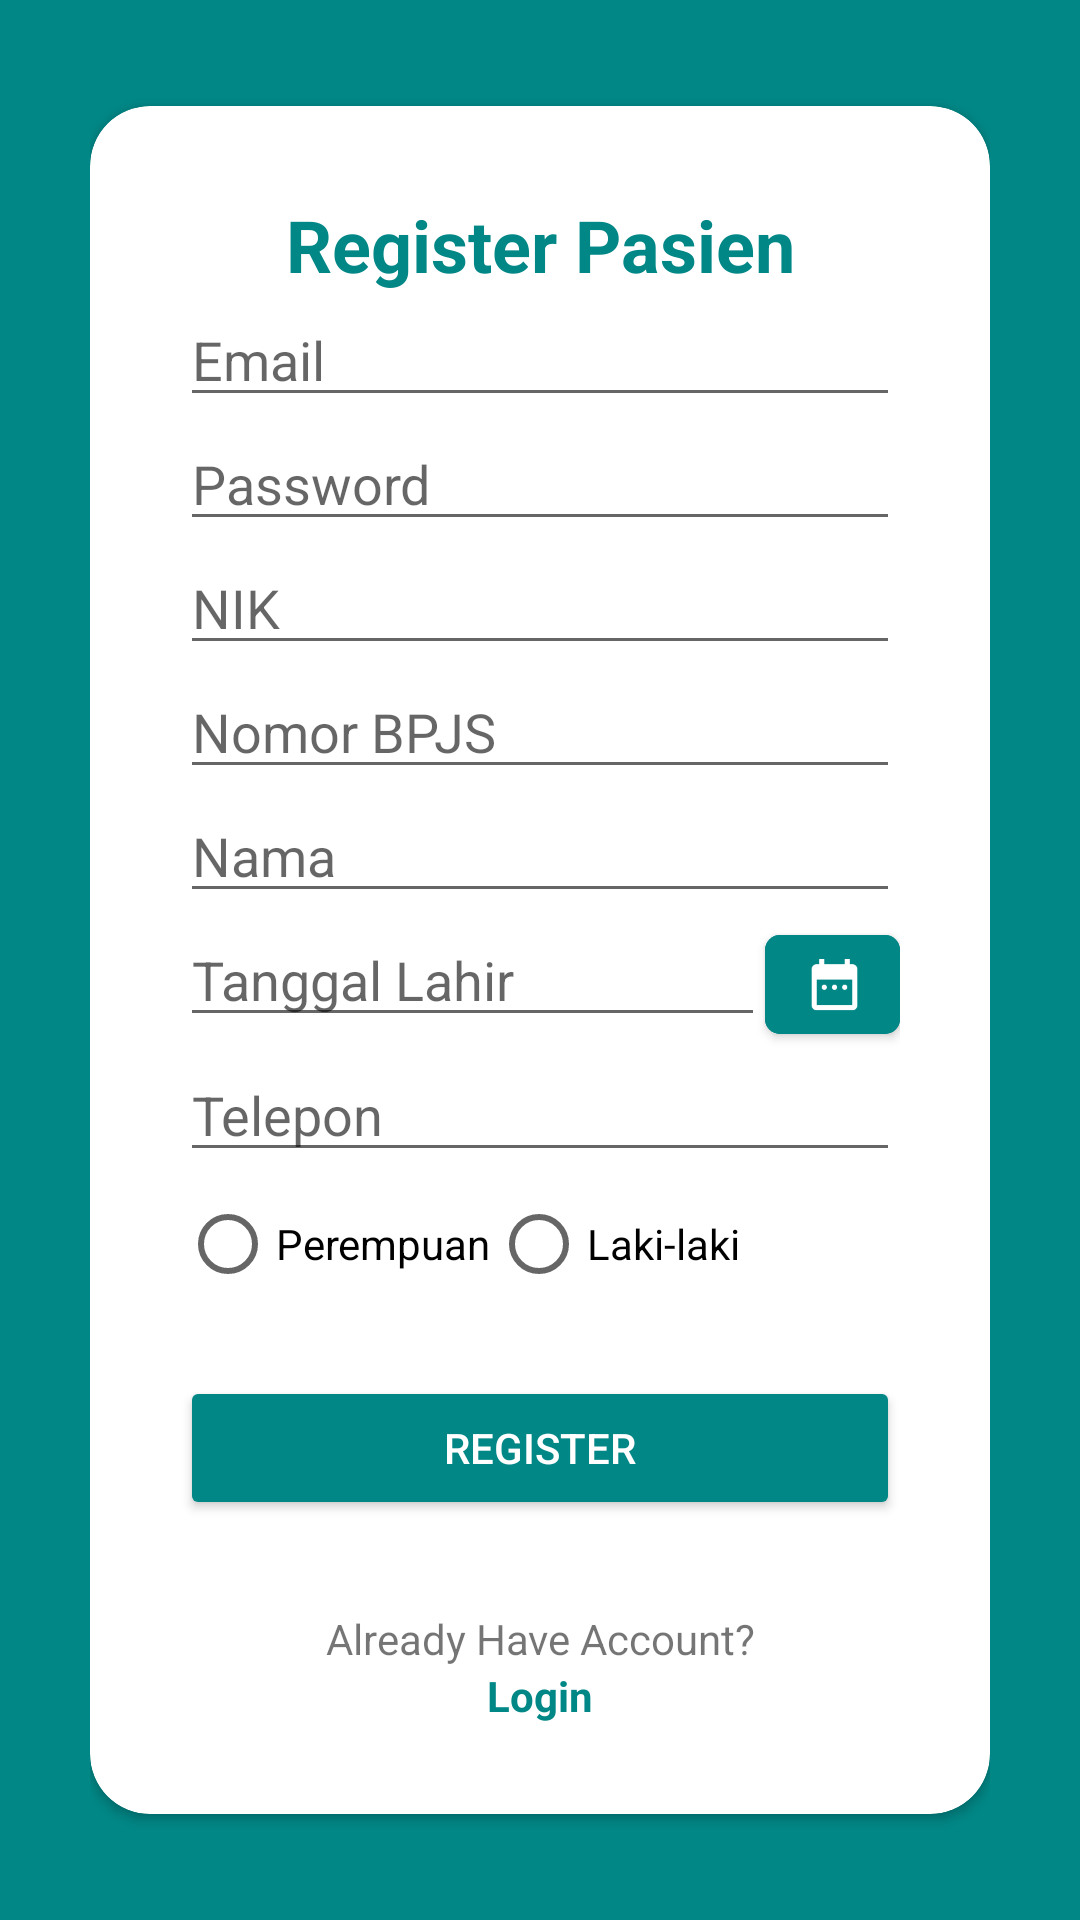

Where to tap for icons on this 1080×1920 app screen, as point (x, y):
datepicker: point (832, 985)
